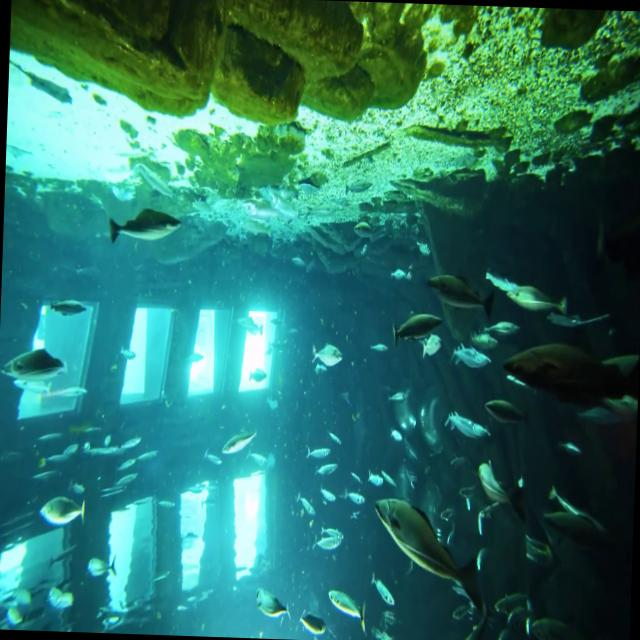fish: (366, 484, 492, 612), (495, 340, 639, 412), (98, 190, 182, 256), (424, 266, 497, 338), (0, 331, 63, 388), (326, 576, 379, 640), (32, 484, 92, 538), (433, 409, 495, 456), (474, 464, 520, 521), (438, 338, 492, 386), (40, 288, 92, 330), (478, 390, 530, 430), (503, 285, 566, 318), (386, 314, 444, 349), (222, 418, 258, 471), (78, 549, 122, 587), (252, 586, 292, 622), (42, 571, 72, 615), (312, 524, 346, 560), (295, 613, 336, 640), (483, 316, 525, 340)
